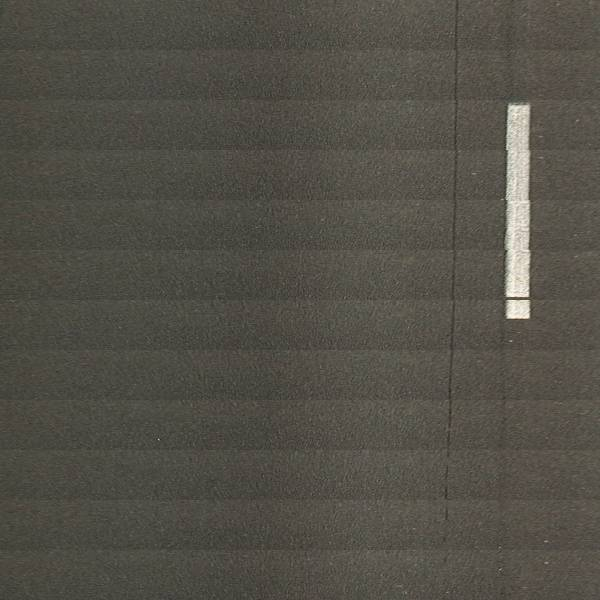road_damage: (442, 35, 461, 513)
